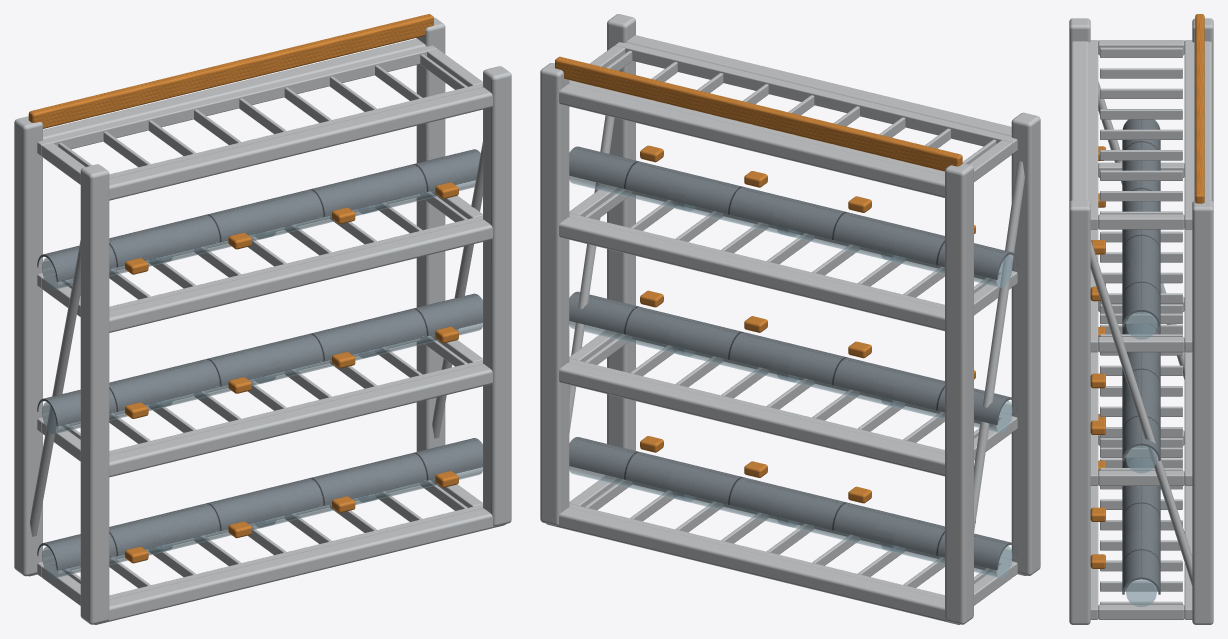
Rendered from arctic-station-fps-kit-ice-core-sample-rack-e850db4e__28535.glb.
The picture shows the model from 3 angles, left to right: view 1: azimuth 30°, elevation 25°; view 2: azimuth 150°, elevation 25°; view 3: azimuth 270°, elevation 25°; orthographic projection. The views are drawn at different scales.
Parts seen in each view (by area): view 1: ice-core-sample-rack; view 2: ice-core-sample-rack; view 3: ice-core-sample-rack.
Part boxes in pixels (left/top/right/bottom): ice-core-sample-rack: left=14, top=14, right=511, bottom=624; ice-core-sample-rack: left=540, top=14, right=1040, bottom=624; ice-core-sample-rack: left=1069, top=14, right=1213, bottom=624.
Bounding box in the file's own units: 1.5 × 1.54 × 0.47.
Materials: 4 (2 with a texture image).
